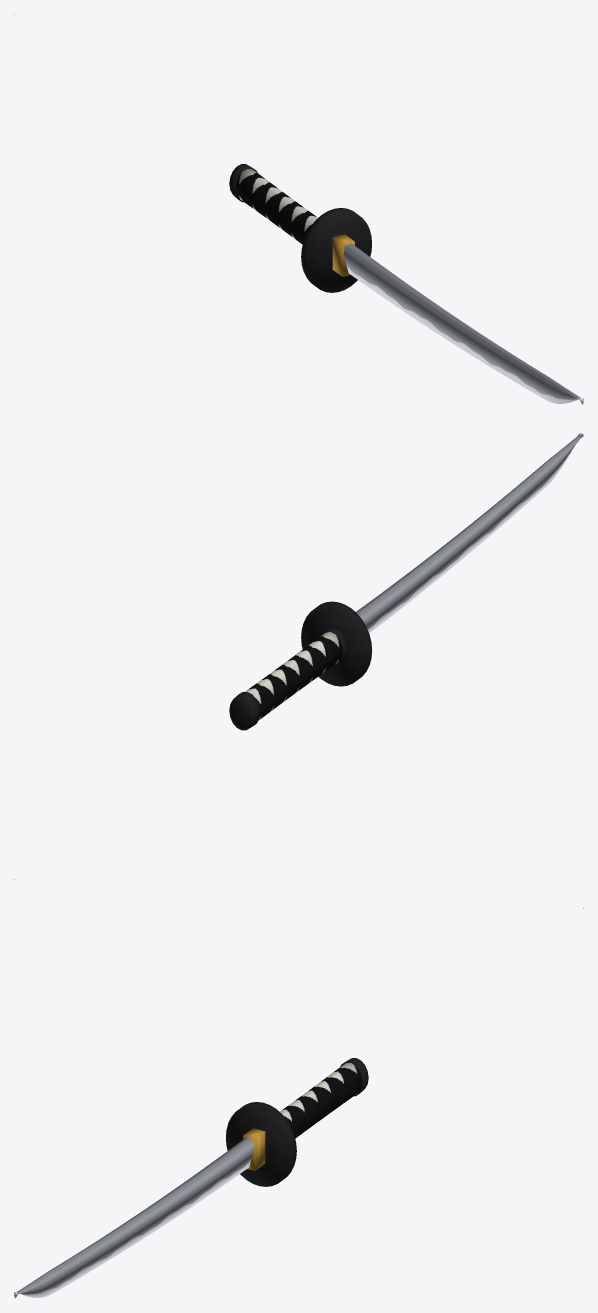
The model's file is Katana.fbx.
The picture shows the model from 3 angles, top to bottom: view 1: azimuth 30°, elevation 25°; view 2: azimuth 150°, elevation 25°; view 3: azimuth 330°, elevation 25°; orthographic projection.
Visible parts, largest first — view 1: Katana; view 2: Katana; view 3: Katana.
Part boxes in pixels (box(x1,y1,x2,y2)): Katana: box(14, 14, 583, 404); Katana: box(14, 433, 583, 879); Katana: box(14, 908, 583, 1298).
Bounding box in the file's own units: 0.54 × 0.62 × 7.96.
1 material, 1 textured.
